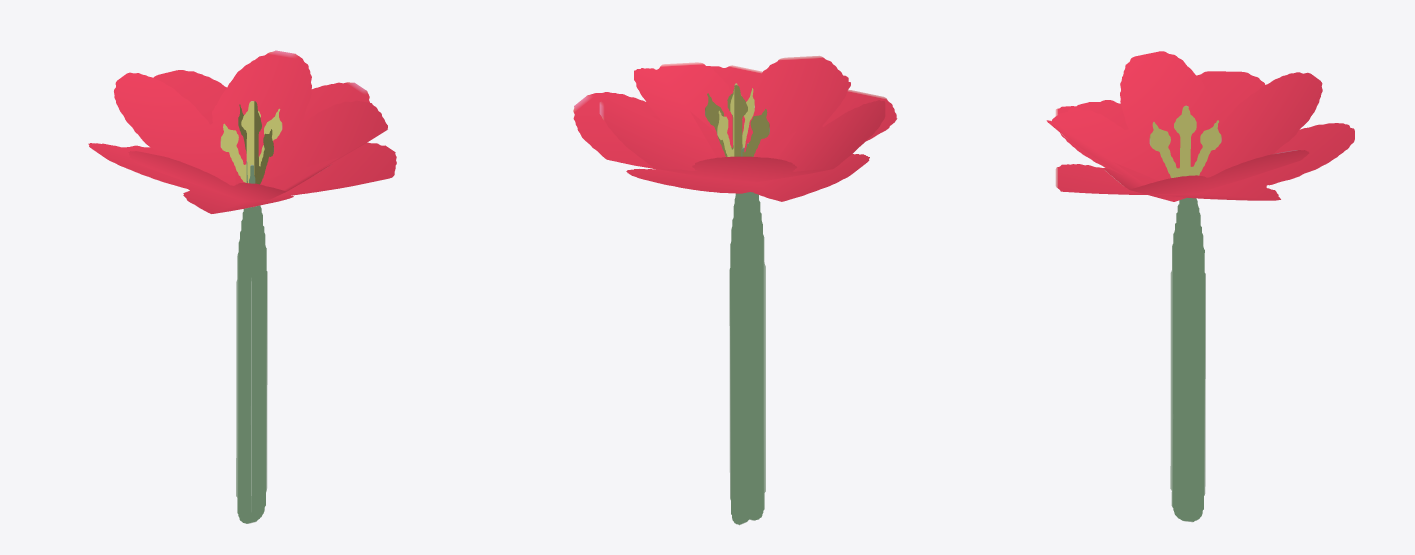
The model's file is Poppy.fbx.
3 renders of one model, left to right at view 1: azimuth 30°, elevation 25°; view 2: azimuth 150°, elevation 25°; view 3: azimuth 270°, elevation 25°, orthographic. The views are drawn at different scales.
Parts seen in each view (by area): view 1: polySurface82; view 2: polySurface82; view 3: polySurface82.
Boxes of the visible parts, left/top/right/bottom form: polySurface82: left=88, top=50, right=396, bottom=523; polySurface82: left=573, top=55, right=897, bottom=525; polySurface82: left=1046, top=51, right=1354, bottom=522.
Bounding box in the file's own units: 0.2366 × 0.2833 × 0.2395.
